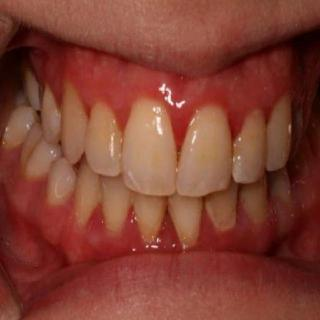LL1BC_healthy: (269, 168, 292, 201)
LLCI_healthy: (168, 195, 203, 244)
LLC_healthy: (240, 178, 270, 222)
LLLI_healthy: (204, 185, 239, 230)
LR1BC_healthy: (46, 158, 76, 203)
LR1M_healthy: (2, 106, 39, 145)
LR2BC_healthy: (20, 124, 61, 180), (25, 67, 40, 109)
LRCI_healthy: (133, 196, 164, 239)
LRC_healthy: (73, 167, 100, 224)
LRLI_healthy: (100, 176, 133, 232)
ULCI_healthy: (177, 107, 233, 196)
ULC_healthy: (267, 94, 291, 171)
ULLI_healthy: (233, 111, 267, 181)
UR1BC_healthy: (41, 83, 61, 142)
URCI_healthy: (123, 98, 176, 196)
URC_healthy: (60, 83, 85, 163)
URLI_healthy: (85, 101, 123, 177)
